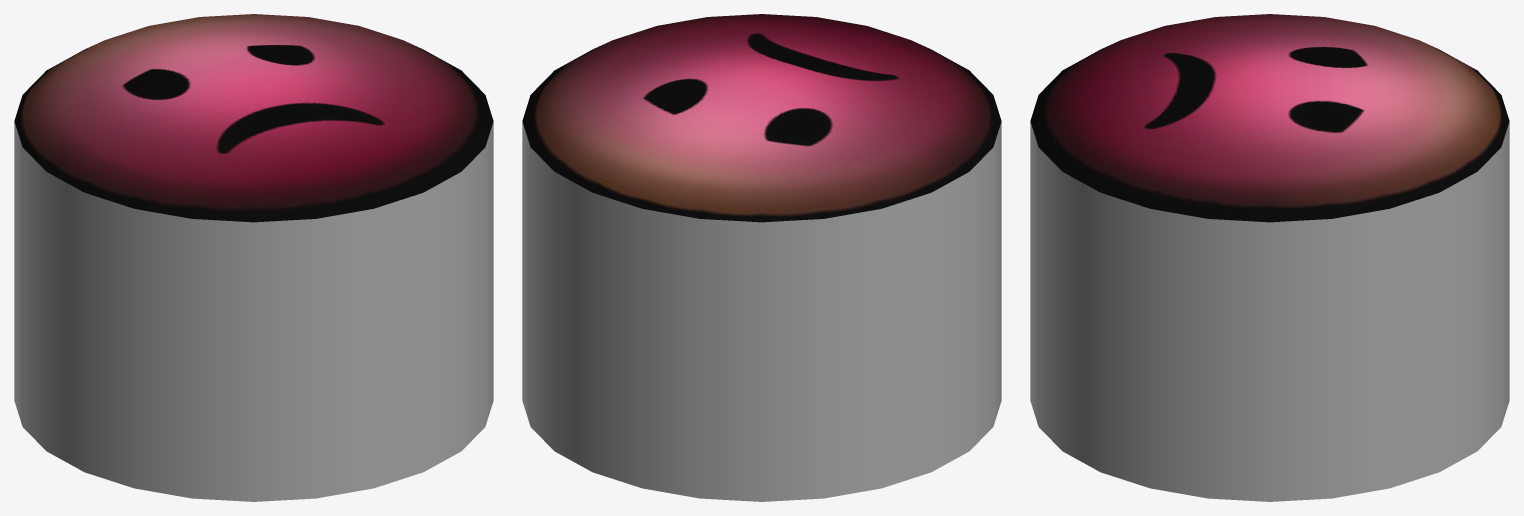
The model's file is button-1.fbx.
The picture shows the model from 3 angles, left to right: view 1: azimuth 30°, elevation 25°; view 2: azimuth 150°, elevation 25°; view 3: azimuth 270°, elevation 25°; orthographic projection.
Visible parts, largest first — view 1: Cylinder.008; view 2: Cylinder.008; view 3: Cylinder.008.
Boxes of the visible parts, left/top/right/bottom form: Cylinder.008: left=14, top=14, right=493, bottom=501; Cylinder.008: left=522, top=14, right=1001, bottom=501; Cylinder.008: left=1030, top=14, right=1509, bottom=501.
Size of the model in its own units: 20.19 by 15.01 by 20.19.
2 materials, 1 textured.
